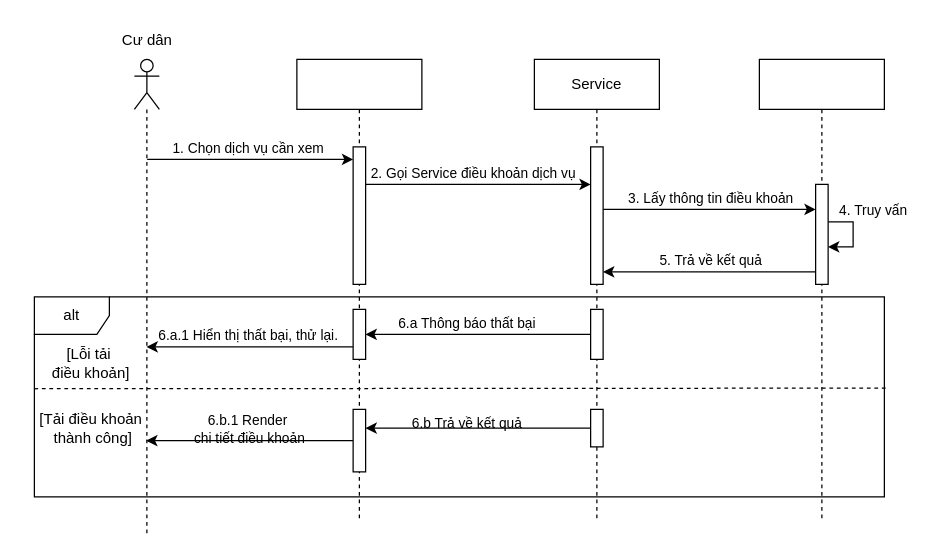
Image size: 928x556. Some labels were removed from this diagram. The centre of each missing label's shape, as x and y in pixels:
Database: (821,290)
UI: (359,290)
